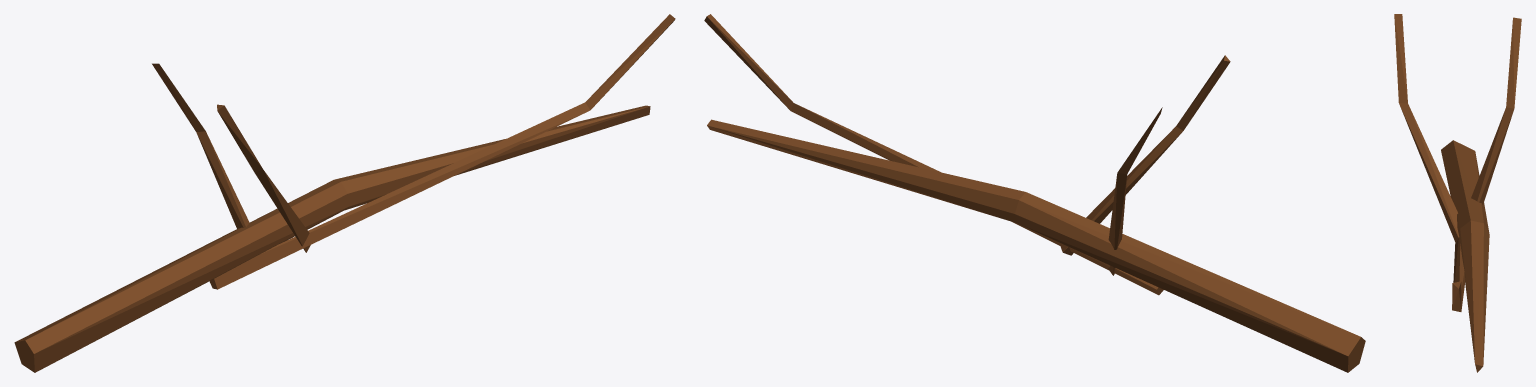
Rendered from terra_branch_b.fbx.
3 views of the same model, side by side, from view 1: azimuth 30°, elevation 25°; view 2: azimuth 150°, elevation 25°; view 3: azimuth 270°, elevation 25° (orthographic). The views are drawn at different scales.
Visible parts, largest first — view 1: terra_branch_b; view 2: terra_branch_b; view 3: terra_branch_b.
Boxes of the visible parts, x1,y1,x2,y2 form: terra_branch_b: (14,14,675,372); terra_branch_b: (704,14,1365,372); terra_branch_b: (1394,14,1521,372).
Bounding box in the file's own units: 2.2 × 0.8 × 0.4.
